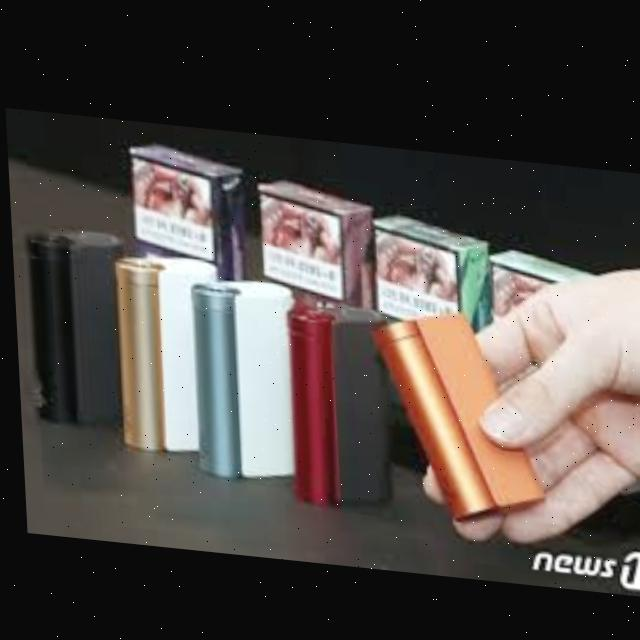vape: (372, 297, 544, 516), (186, 268, 299, 481), (281, 288, 389, 504), (110, 247, 223, 452), (25, 225, 135, 430)
